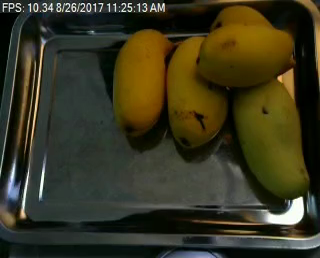Mango: (232, 73, 311, 200), (165, 36, 227, 147), (111, 28, 174, 135), (196, 24, 294, 88), (210, 6, 297, 72)
